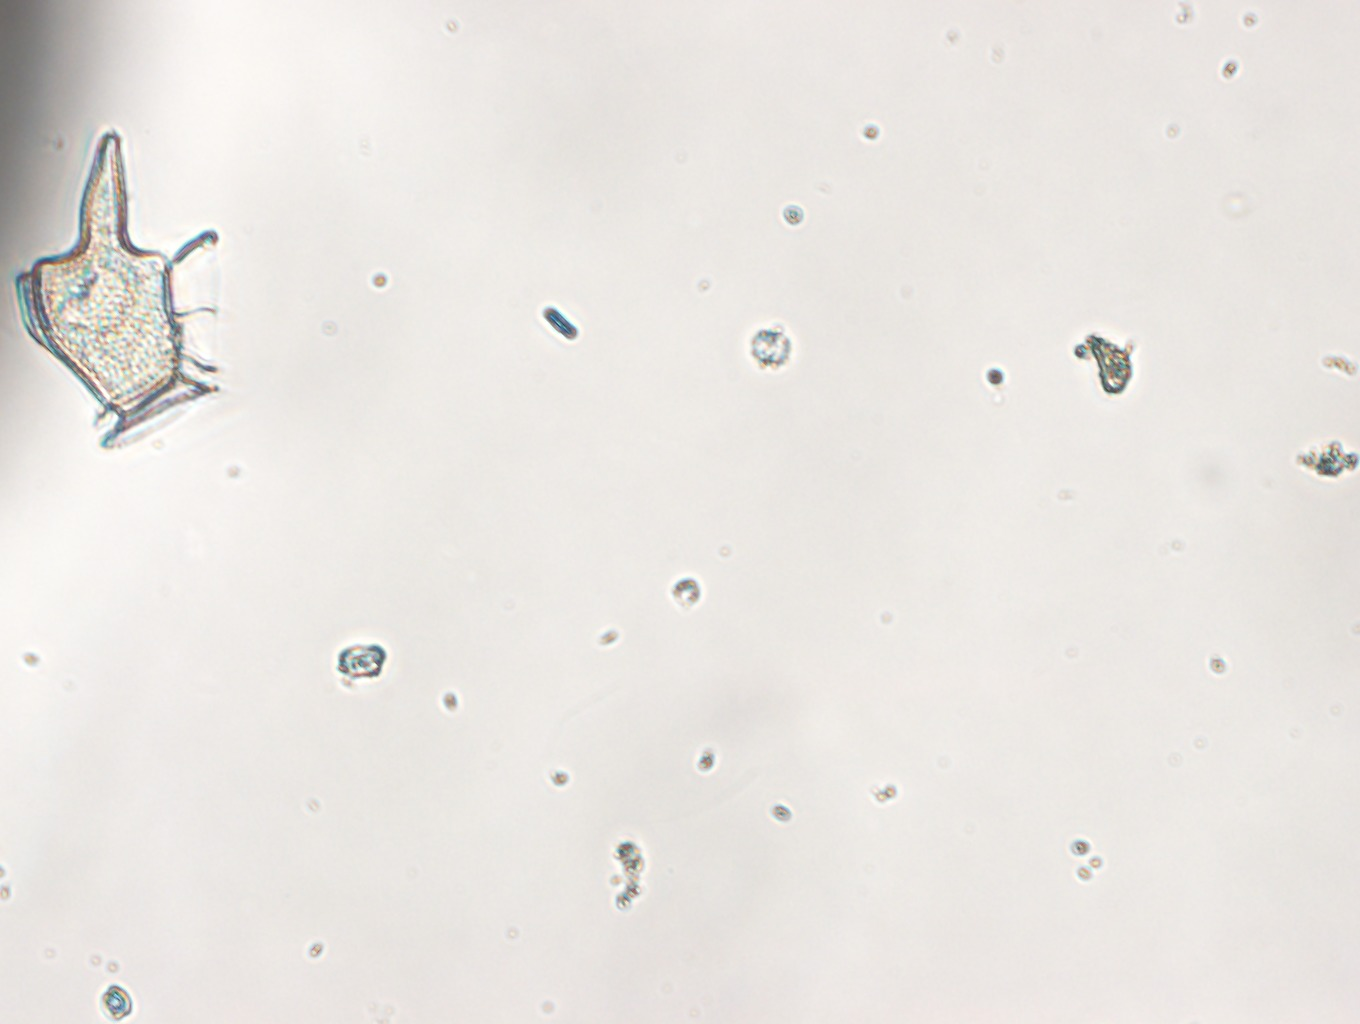dinophysis caudata: (13, 126, 223, 449)
